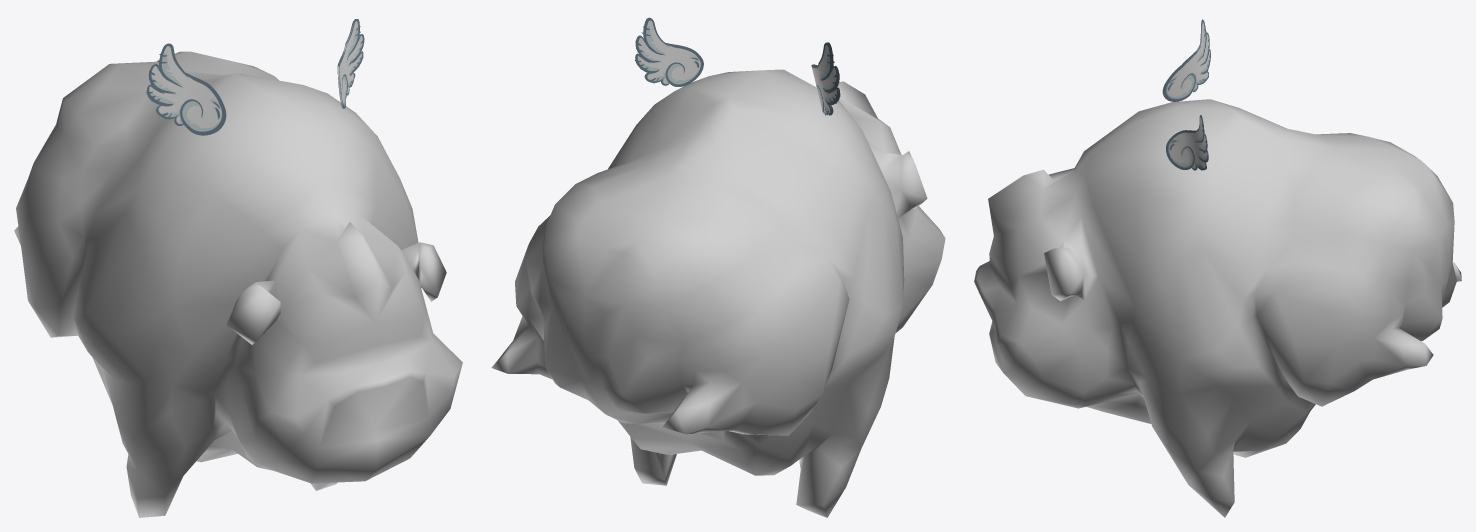
The model's file is PRP_Pig_A.FBX.
3 views of the same model, side by side, from view 1: azimuth 30°, elevation 25°; view 2: azimuth 150°, elevation 25°; view 3: azimuth 270°, elevation 25° (orthographic). The views are drawn at different scales.
Visible parts, largest first — view 1: PRP_Pig, PRP_PigWings; view 2: PRP_Pig, PRP_PigWings; view 3: PRP_Pig, PRP_PigWings.
Boxes of the visible parts, left/top/right/bottom form: PRP_Pig: left=14, top=51, right=462, bottom=517; PRP_PigWings: left=146, top=19, right=364, bottom=135; PRP_Pig: left=491, top=69, right=945, bottom=517; PRP_PigWings: left=634, top=17, right=840, bottom=115; PRP_Pig: left=974, top=99, right=1461, bottom=517; PRP_PigWings: left=1162, top=19, right=1210, bottom=170.
Size of the model in its own units: 70.21 by 105 by 109.
